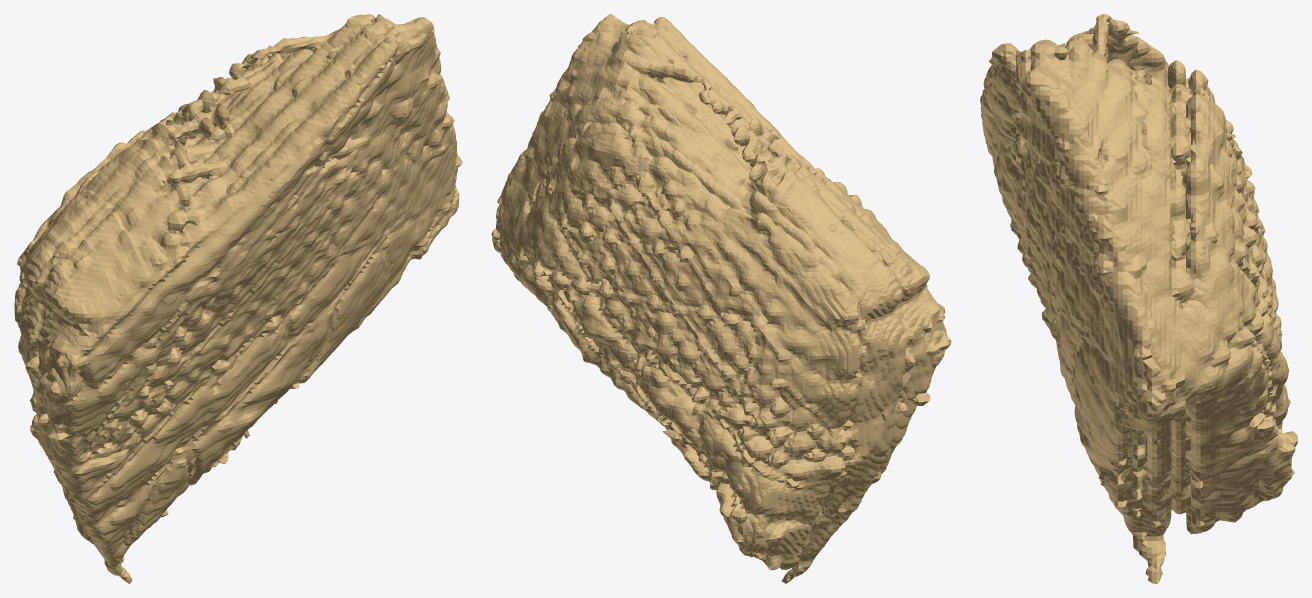
The model's file is raw.glb.
3 renders of one model, left to right at view 1: azimuth 30°, elevation 25°; view 2: azimuth 150°, elevation 25°; view 3: azimuth 270°, elevation 25°, orthographic. The views are drawn at different scales.
Visible parts, largest first — view 1: world; view 2: world; view 3: world.
Boxes of the visible parts, bbox=[...] form: world: bbox=[14, 14, 462, 583]; world: bbox=[491, 14, 951, 583]; world: bbox=[980, 14, 1297, 583].
Bounding box in the file's own units: 1.2 × 1.35 × 0.587.
